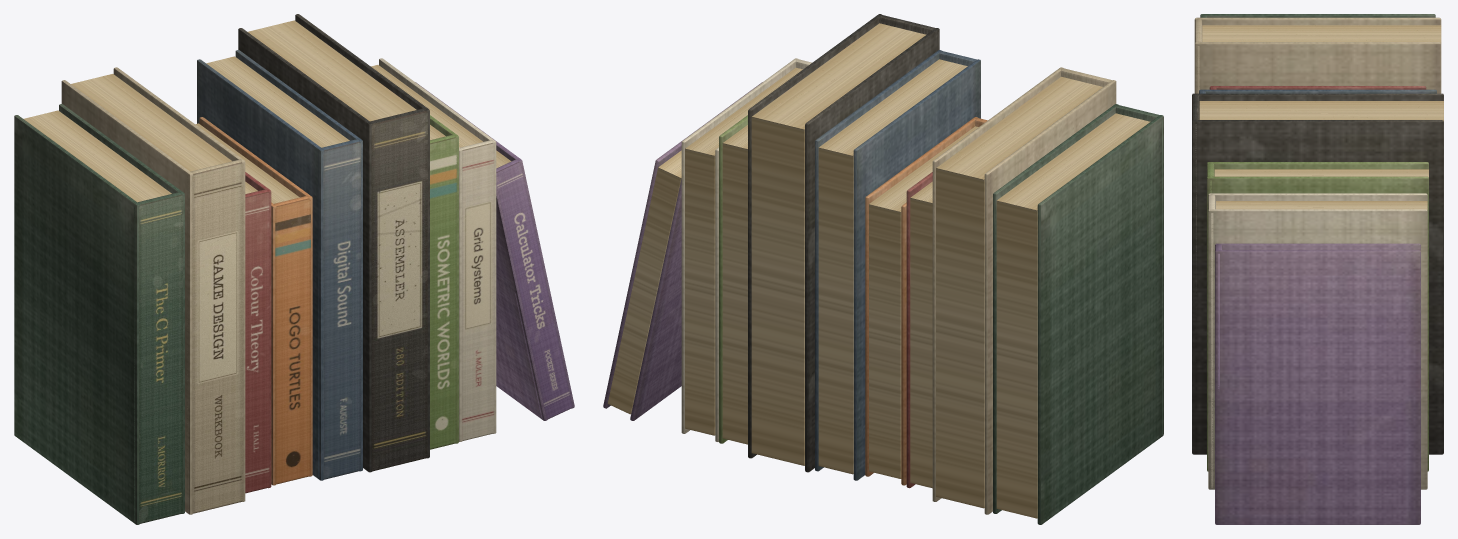
File: books-crt.glb
3 renders of one model, left to right at view 1: azimuth 30°, elevation 25°; view 2: azimuth 150°, elevation 25°; view 3: azimuth 270°, elevation 25°, orthographic. The views are drawn at different scales.
Parts seen in each view (by area): view 1: part_00, part_05, part_01, part_04, part_03, part_08, part_07, part_06, part_02; view 2: part_00, part_05, part_01, part_04, part_03, part_08, part_07, part_06, part_02; view 3: part_08, part_05, part_01, part_07, part_06, part_04, part_00, part_02.
Part boxes in pixels (bbox=[...]): part_00: bbox=[14, 104, 184, 524]; part_05: bbox=[238, 14, 429, 472]; part_01: bbox=[61, 67, 245, 514]; part_04: bbox=[197, 50, 362, 480]; part_03: bbox=[195, 117, 312, 485]; part_08: bbox=[415, 82, 574, 420]; part_07: bbox=[371, 58, 496, 441]; part_06: bbox=[430, 115, 458, 449]; part_02: bbox=[245, 172, 271, 493]; part_00: bbox=[993, 104, 1163, 524]; part_05: bbox=[748, 14, 939, 472]; part_01: bbox=[932, 67, 1116, 514]; part_04: bbox=[815, 50, 980, 480]; part_03: bbox=[865, 117, 987, 485]; part_08: bbox=[603, 82, 762, 420]; part_07: bbox=[681, 58, 811, 441]; part_06: bbox=[719, 115, 747, 444]; part_02: bbox=[906, 172, 932, 488]; part_08: bbox=[1215, 243, 1420, 524]; part_05: bbox=[1192, 93, 1443, 454]; part_01: bbox=[1194, 17, 1441, 93]; part_07: bbox=[1208, 193, 1427, 489]; part_06: bbox=[1207, 162, 1428, 471]; part_04: bbox=[1199, 89, 1436, 93]; part_00: bbox=[1200, 14, 1435, 17]; part_02: bbox=[1209, 86, 1426, 89].
Size of the model in its own units: 3.64 by 2.74 by 1.86.
1 material, 1 textured.
